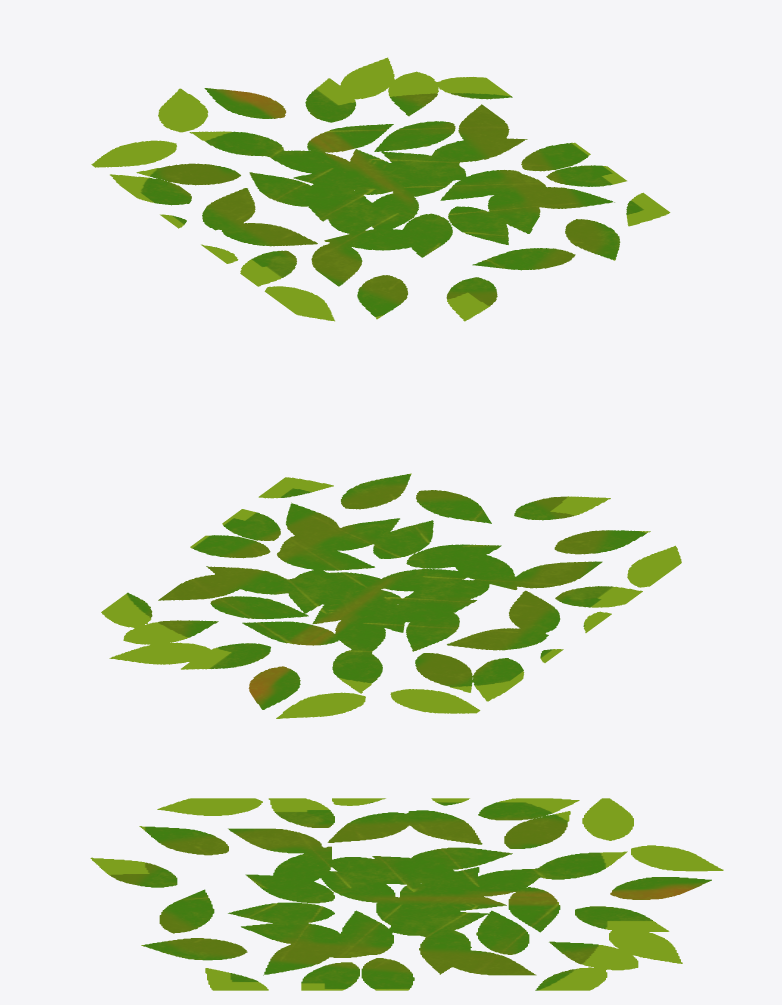
File: Folhagem_03.fbx
The picture shows the model from 3 angles, top to bottom: view 1: azimuth 30°, elevation 25°; view 2: azimuth 150°, elevation 25°; view 3: azimuth 270°, elevation 25°; orthographic projection. The views are drawn at different scales.
Visible parts, largest first — view 1: LOWC; view 2: LOWC; view 3: LOWC.
Part boxes in pixels (left/top/right/bottom): LOWC: left=91, top=57, right=670, bottom=321; LOWC: left=101, top=473, right=681, bottom=718; LOWC: left=90, top=798, right=723, bottom=990.
Bounding box in the file's own units: 1.12 × 0 × 1.86.
